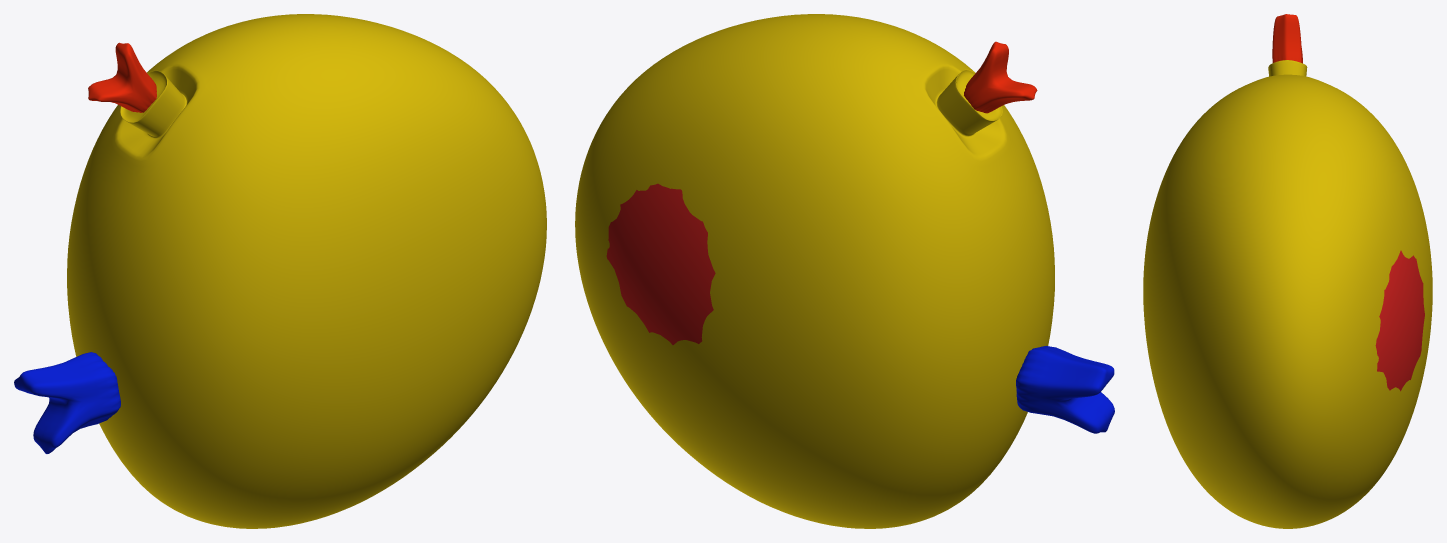
Rendered from LinfoncitoTCD8Final.fbx.
3 renders of one model, left to right at view 1: azimuth 30°, elevation 25°; view 2: azimuth 150°, elevation 25°; view 3: azimuth 270°, elevation 25°, orthographic. The views are drawn at different scales.
Visible parts, largest first — view 1: Cubo, Balas.001, Balas; view 2: Cubo, Cube, Balas.001, Balas; view 3: Cubo, Cube, Balas.
Boxes of the visible parts, x1=… form: Cubo: x1=67, y1=14, x2=546, y2=528; Balas.001: x1=14, y1=352, x2=120, y2=453; Balas: x1=88, y1=42, x2=156, y2=112; Cubo: x1=575, y1=14, x2=1054, y2=528; Cube: x1=606, y1=183, x2=715, y2=344; Balas.001: x1=1016, y1=346, x2=1114, y2=433; Balas: x1=964, y1=41, x2=1037, y2=113; Cubo: x1=1143, y1=60, x2=1432, y2=528; Cube: x1=1375, y1=250, x2=1424, y2=391; Balas: x1=1272, y1=14, x2=1302, y2=63.
Bounding box in the file's own units: 2.64 × 2.47 × 1.51.
